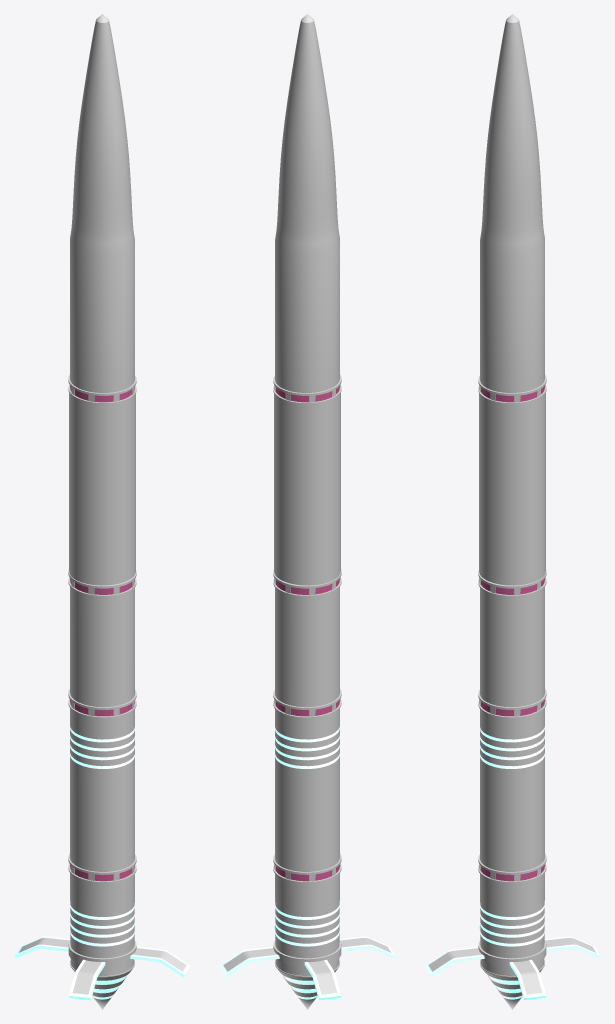
Rendered from stabilizer.fbx.
3 renders of one model, left to right at view 1: azimuth 30°, elevation 25°; view 2: azimuth 150°, elevation 25°; view 3: azimuth 330°, elevation 25°, orthographic.
Parts seen in each view (by area): view 1: stabilizer, stabilizer_Glass; view 2: stabilizer, stabilizer_Glass; view 3: stabilizer, stabilizer_Glass.
Part boxes in pixels (x1,y1,x2,y2): stabilizer: (14,14,190,1009); stabilizer_Glass: (69,393,135,585); stabilizer: (219,14,395,1009); stabilizer_Glass: (274,393,340,585); stabilizer: (424,14,600,1009); stabilizer_Glass: (479,393,545,585).
Size of the model in its own units: 4320 by 4320 by 33610.
